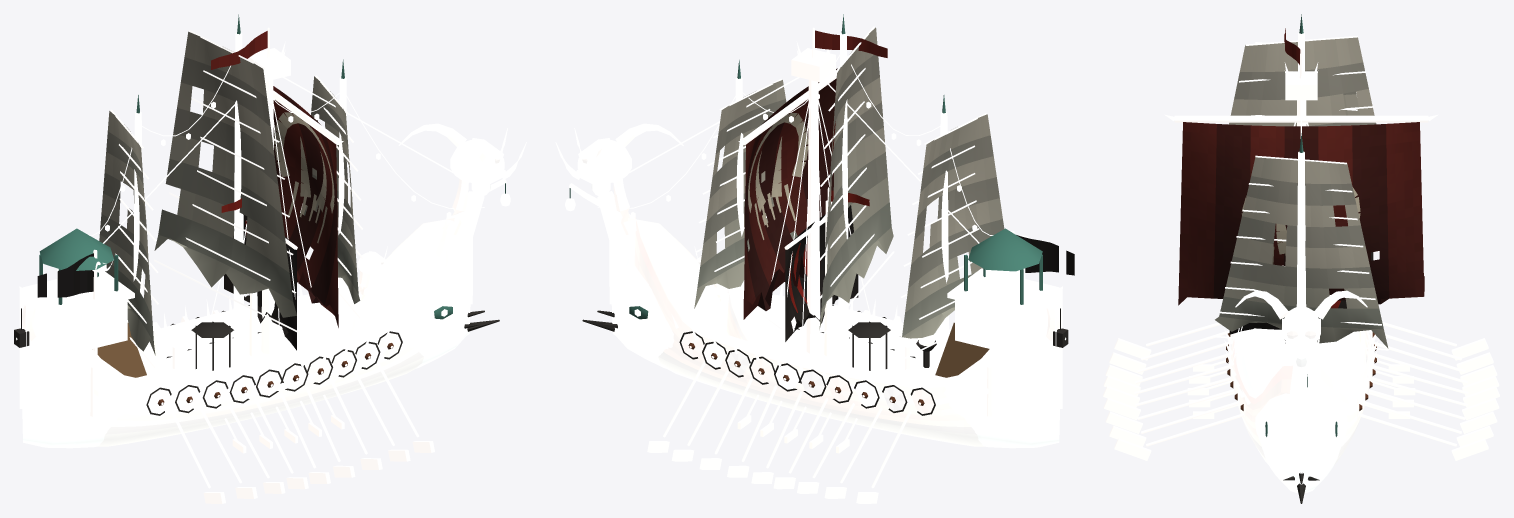
Rendered from boats.glb.
3 renders of one model, left to right at view 1: azimuth 30°, elevation 25°; view 2: azimuth 150°, elevation 25°; view 3: azimuth 270°, elevation 25°, orthographic.
Visible parts, largest first — view 1: pale_lantern, ork_galley, ork_raider; view 2: pale_lantern, ork_galley, ork_raider; view 3: ork_galley, pale_lantern, ork_raider.
Part boxes in pixels (box(x1,y1,x2,y2)): pale_lantern: box(19, 14, 510, 448); ork_galley: box(14, 27, 526, 503); ork_raider: box(152, 198, 397, 453); pale_lantern: box(565, 14, 1062, 448); ork_galley: box(555, 27, 1074, 503); ork_raider: box(684, 187, 915, 453); ork_galley: box(1103, 28, 1499, 503); pale_lantern: box(1214, 14, 1388, 493); ork_raider: box(1187, 252, 1415, 418).
Bounding box in the file's own units: 13.46 × 10.4 × 9.38.
